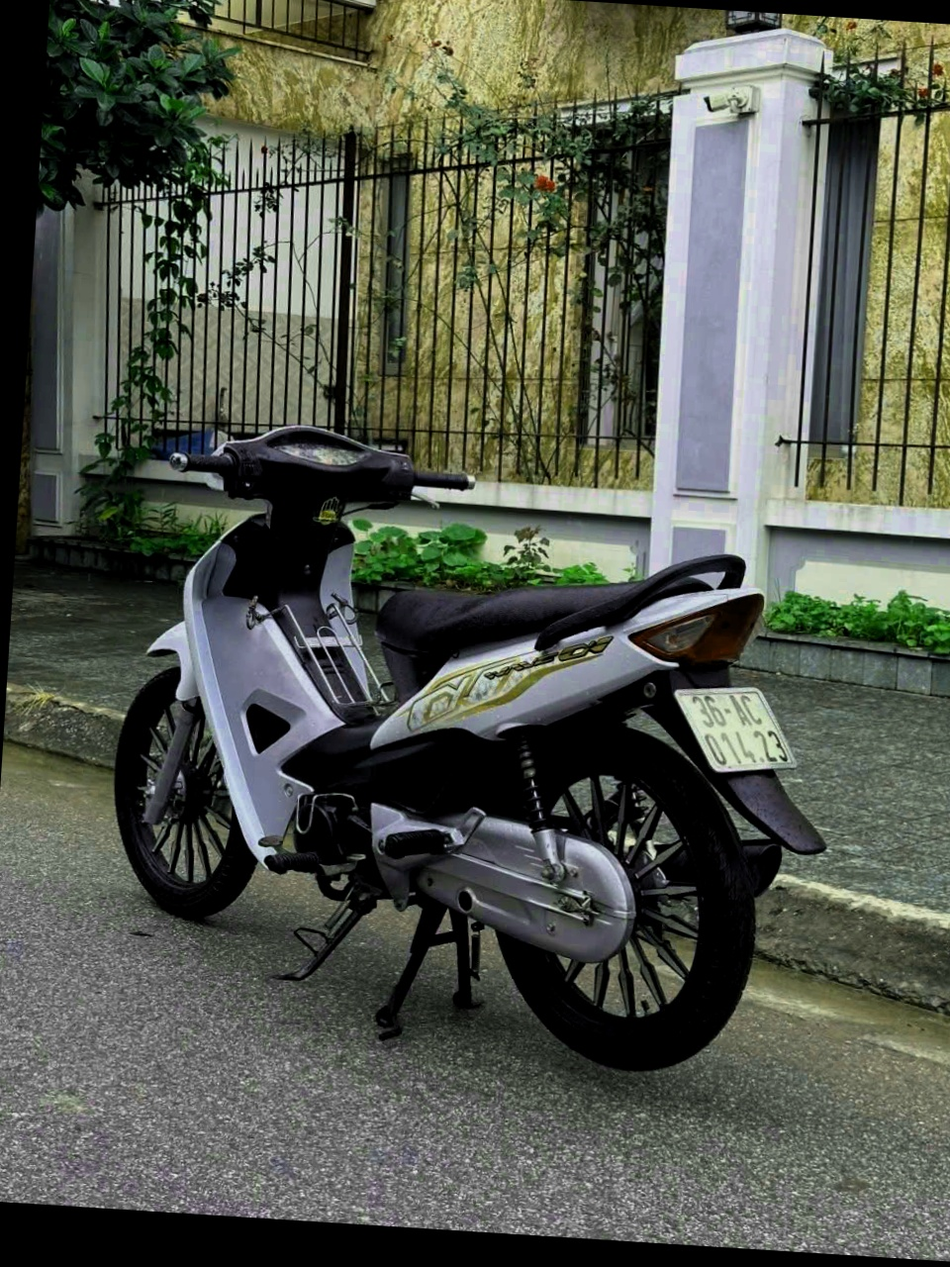Bien-so: (674, 672, 808, 773)
